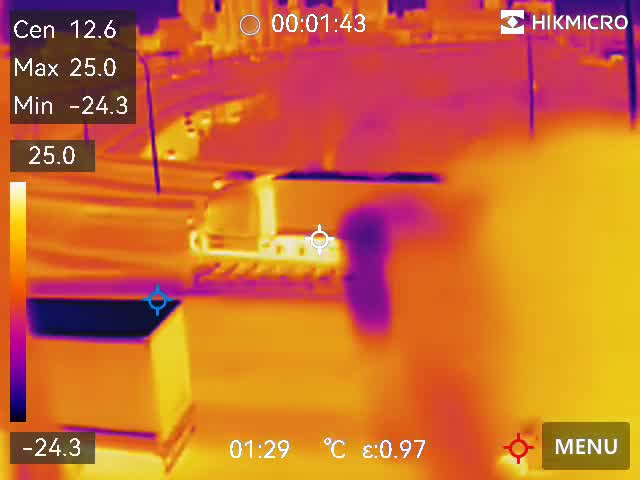heavyTruck: (14, 289, 209, 468), (182, 168, 451, 259)
